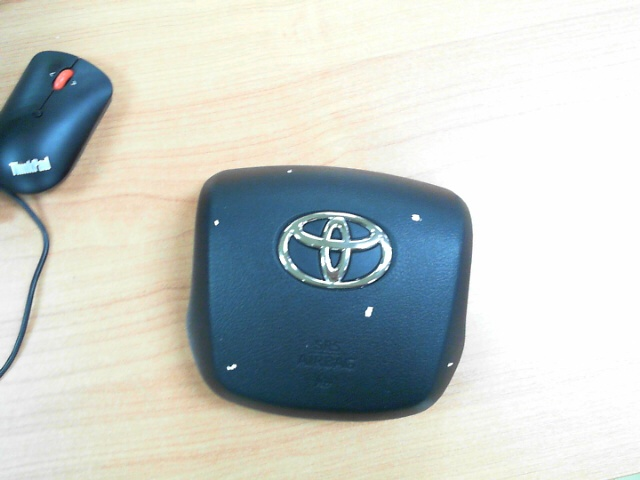Airbag: (225, 363, 238, 372), (364, 306, 374, 317), (410, 214, 422, 222), (212, 217, 221, 227), (446, 362, 454, 368), (287, 169, 294, 174)
